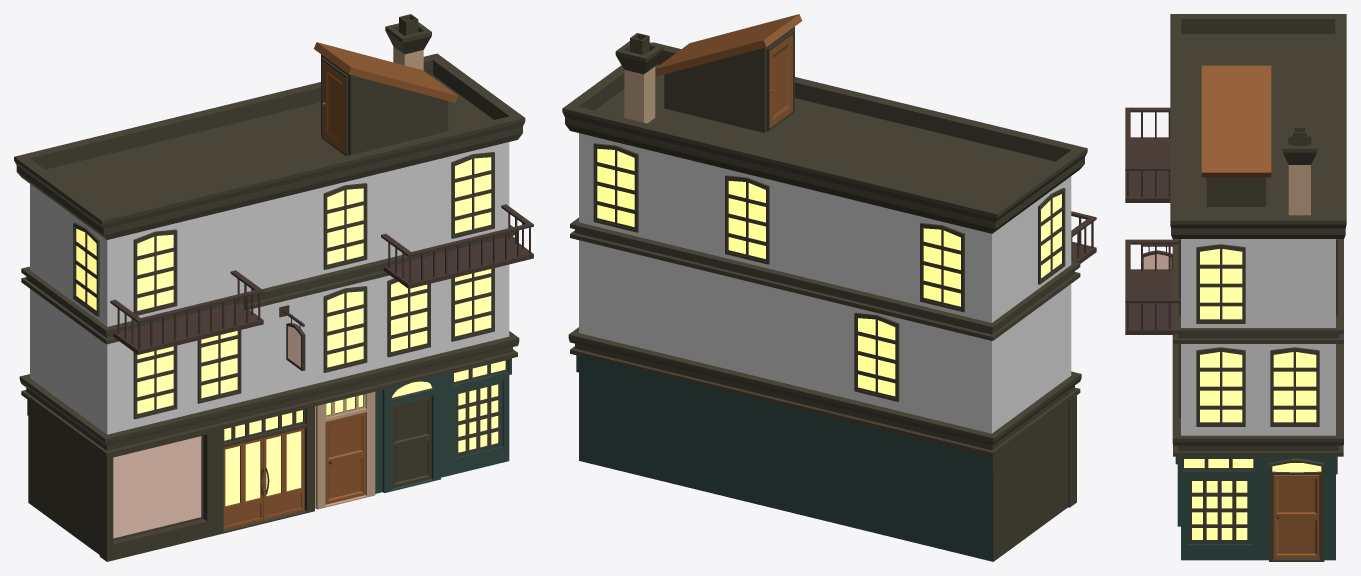
The model's file is house.fbx.
3 renders of one model, left to right at view 1: azimuth 30°, elevation 25°; view 2: azimuth 150°, elevation 25°; view 3: azimuth 270°, elevation 25°, orthographic. The views are drawn at different scales.
Parts seen in each view (by area): view 1: house; view 2: house; view 3: house.
Part boxes in pixels (bbox=[...]): house: bbox=[14, 14, 533, 561]; house: bbox=[562, 14, 1096, 561]; house: bbox=[1125, 14, 1346, 561].
Size of the model in its own units: 2526 by 2408 by 1142.
